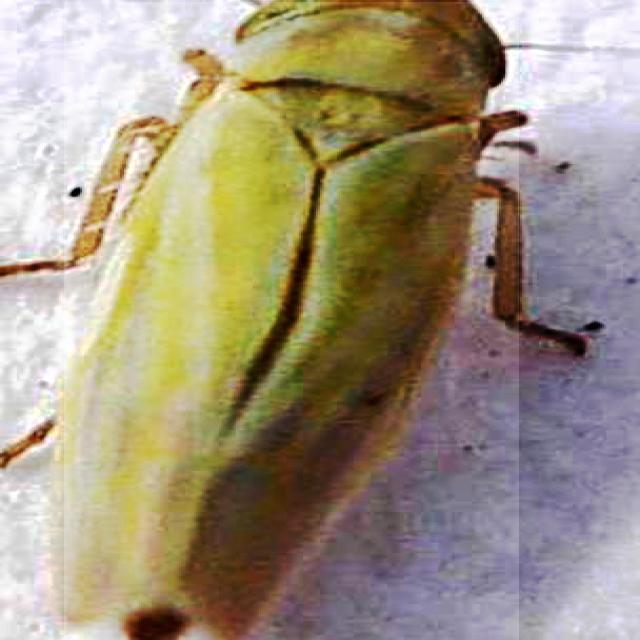green-leafhopper: (64, 2, 519, 640)
